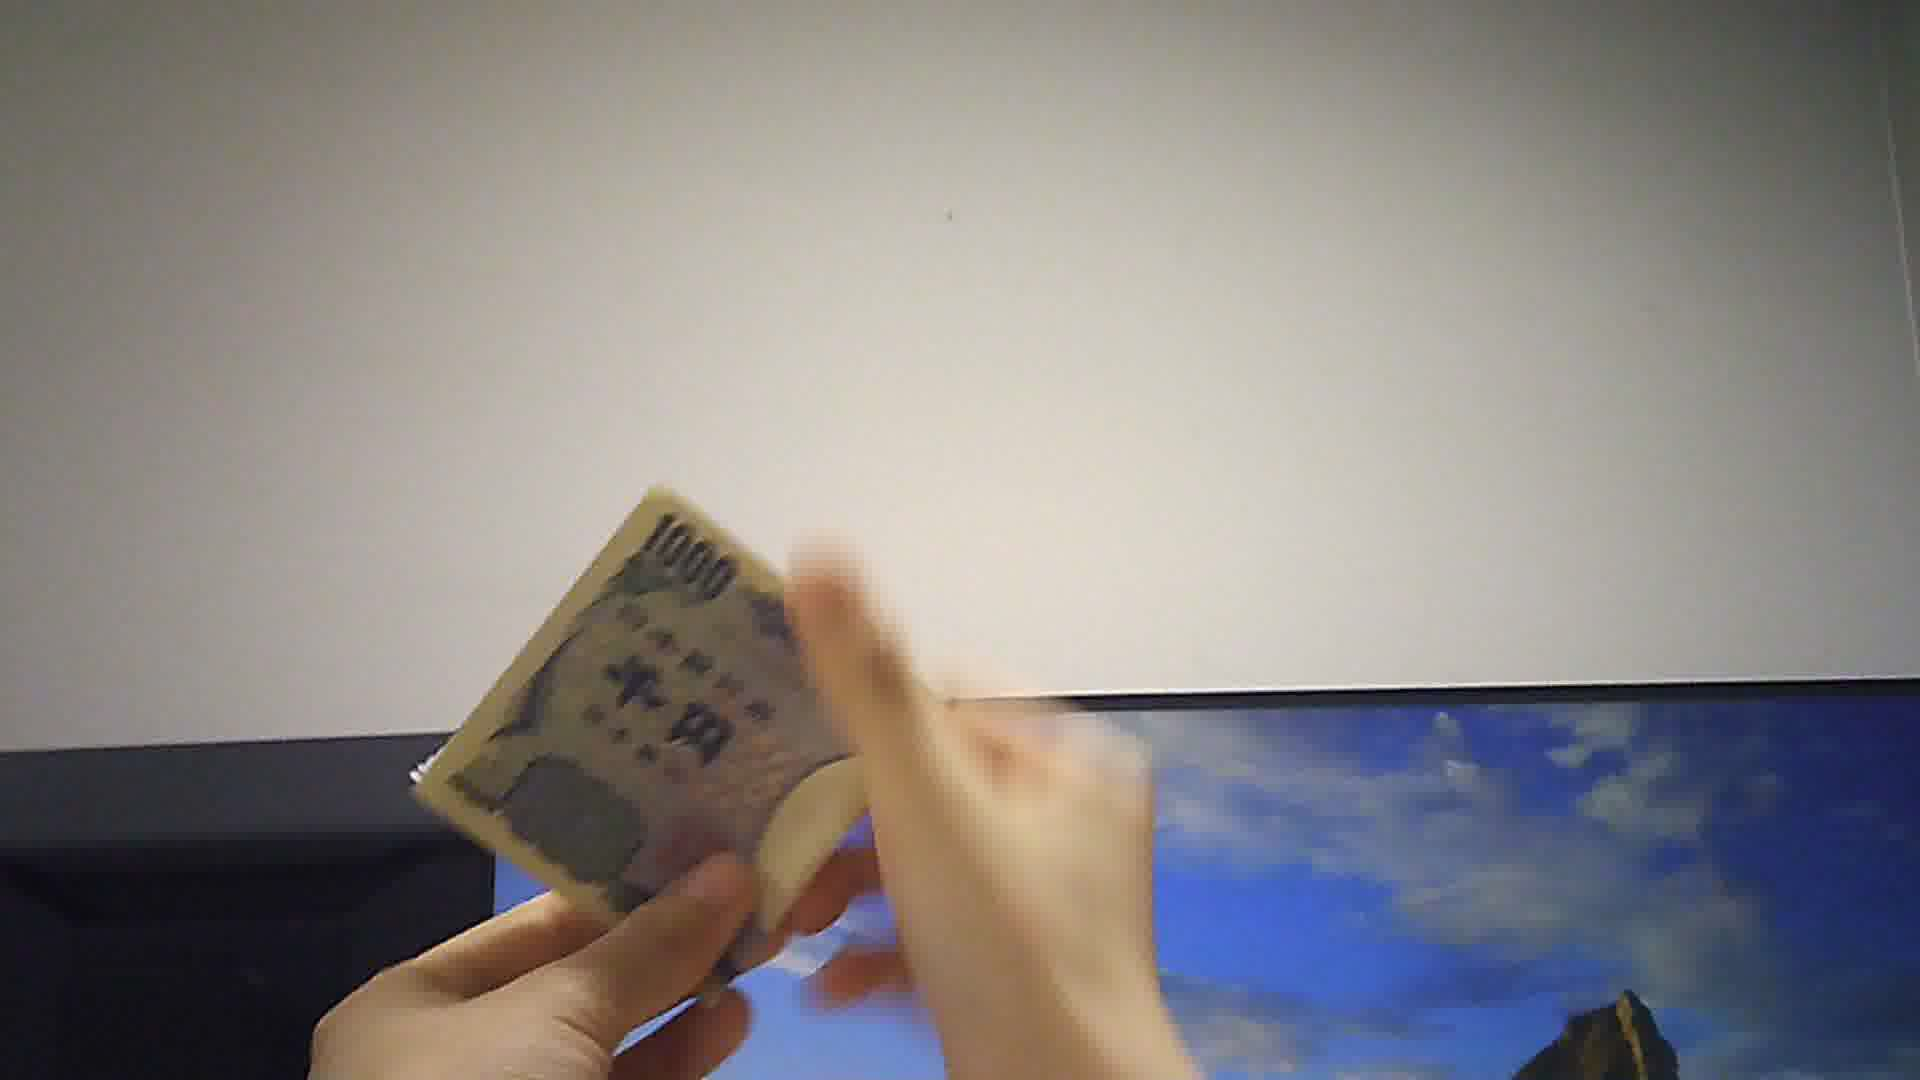1,000 Yen: (405, 489, 967, 1005)
